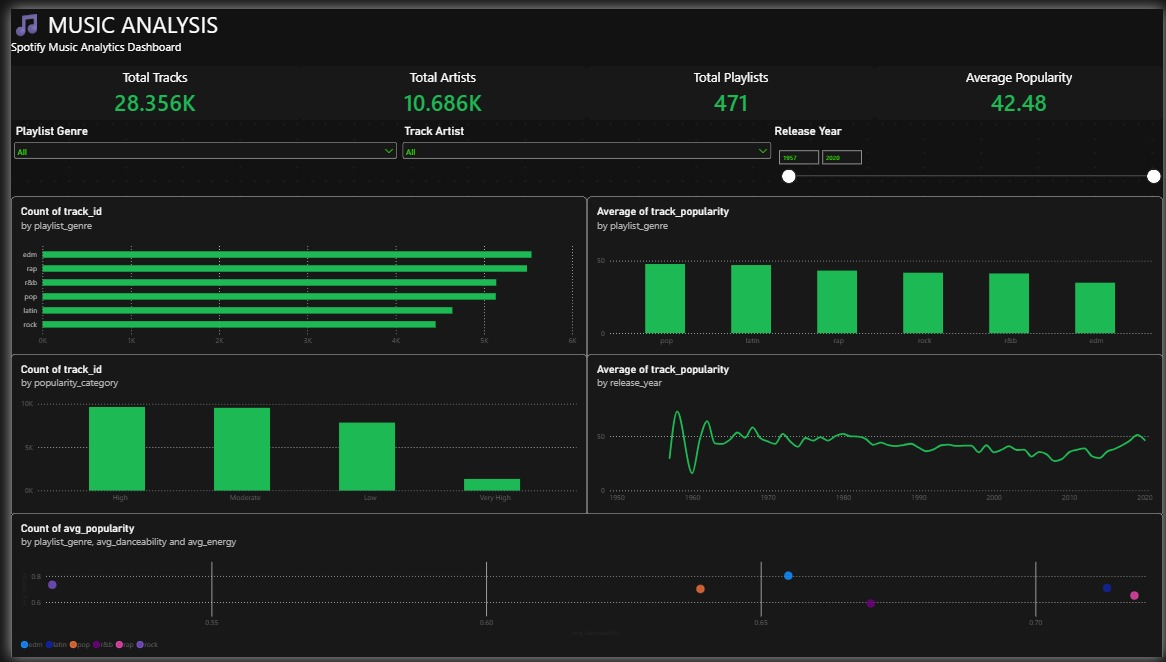

What the dashboard file says about the page in this screenshot:
{"tool":"powerbi","page":{"name":"Overview","canvas":[1920,1080],"ordinal":0},"visuals":[{"type":"cardVisual","fields":{"Data":["Count(music_analysis_project analysis_tracks.track_id)"]},"box":[0,96,480,90],"z":0},{"type":"cardVisual","fields":{"Data":["Count(music_analysis_project analysis_tracks.track_artist)"]},"box":[480,96,480,90],"z":1000},{"type":"cardVisual","fields":{"Data":["Count(music_analysis_project analysis_tracks.playlist_id)"]},"box":[960,96,480,90],"z":2000},{"type":"cardVisual","fields":{"Data":["Avg(music_analysis_project analysis_tracks.track_popularity)"]},"box":[1440,96,480,90],"z":3000},{"type":"clusteredBarChart","fields":{"Category":["music_analysis_project analysis_tracks.playlist_genre"],"Y":["Count(music_analysis_project analysis_tracks.track_id)"]},"box":[0,312,960,270],"z":4000},{"type":"clusteredColumnChart","fields":{"Category":["music_analysis_project analysis_tracks.playlist_genre"],"Y":["Avg(music_analysis_project analysis_tracks.track_popularity)"]},"box":[960,312.5,960,270],"z":5000},{"type":"clusteredColumnChart","fields":{"Category":["music_analysis_project analysis_tracks.popularity_category"],"Y":["Count(music_analysis_project analysis_tracks.track_id)"]},"box":[0,576,960,270],"z":6000},{"type":"lineChart","fields":{"Category":["music_analysis_project analysis_tracks.release_year"],"Y":["Avg(music_analysis_project analysis_tracks.track_popularity)"]},"box":[960,576,960,270],"z":7000},{"type":"scatterChart","fields":{"Series":["music_analysis_project genre_summary.playlist_genre"],"Size":["CountNonNull(music_analysis_project genre_summary.avg_popularity)"],"X":["music_analysis_project genre_summary.avg_danceability"],"Y":["music_analysis_project genre_summary.avg_energy"]},"box":[0,840,1920,250],"z":8000},{"type":"slicer","fields":{"Values":["music_analysis_project analysis_tracks.playlist_genre"]},"box":[0,192,648,120],"z":9000},{"type":"slicer","title":"Release Year","fields":{"Values":["music_analysis_project analysis_tracks.release_year"]},"box":[1272,192,648,120],"z":10000},{"type":"slicer","fields":{"Values":["music_analysis_project analysis_tracks.track_artist"]},"box":[648,192,624,120],"z":11000},{"type":"textbox","box":[0,0,1920,90],"z":12000}]}

Visuals, with their boxes in screenshot pixels (x1, y1, x2, y2), scaled from the page's 1920x1080 canvas onto the 1166x662 screenshot:
cardVisual - Count(music_analysis_project analysis_tracks.track_id): (0,59,292,114)
cardVisual - Count(music_analysis_project analysis_tracks.track_artist): (292,59,583,114)
cardVisual - Count(music_analysis_project analysis_tracks.playlist_id): (583,59,874,114)
cardVisual - Avg(music_analysis_project analysis_tracks.track_popularity): (874,59,1165,114)
clusteredBarChart - music_analysis_project analysis_tracks.playlist_genre x Count(music_analysis_project analysis_tracks.track_id): (0,191,583,357)
clusteredColumnChart - music_analysis_project analysis_tracks.playlist_genre x Avg(music_analysis_project analysis_tracks.track_popularity): (583,192,1165,357)
clusteredColumnChart - music_analysis_project analysis_tracks.popularity_category x Count(music_analysis_project analysis_tracks.track_id): (0,353,583,519)
lineChart - music_analysis_project analysis_tracks.release_year x Avg(music_analysis_project analysis_tracks.track_popularity): (583,353,1165,519)
scatterChart - music_analysis_project genre_summary.playlist_genre x CountNonNull(music_analysis_project genre_summary.avg_popularity): (0,515,1165,661)
slicer - music_analysis_project analysis_tracks.playlist_genre: (0,118,394,191)
"Release Year" slicer: (772,118,1165,191)
slicer - music_analysis_project analysis_tracks.track_artist: (394,118,772,191)
textbox: (0,0,1165,55)
